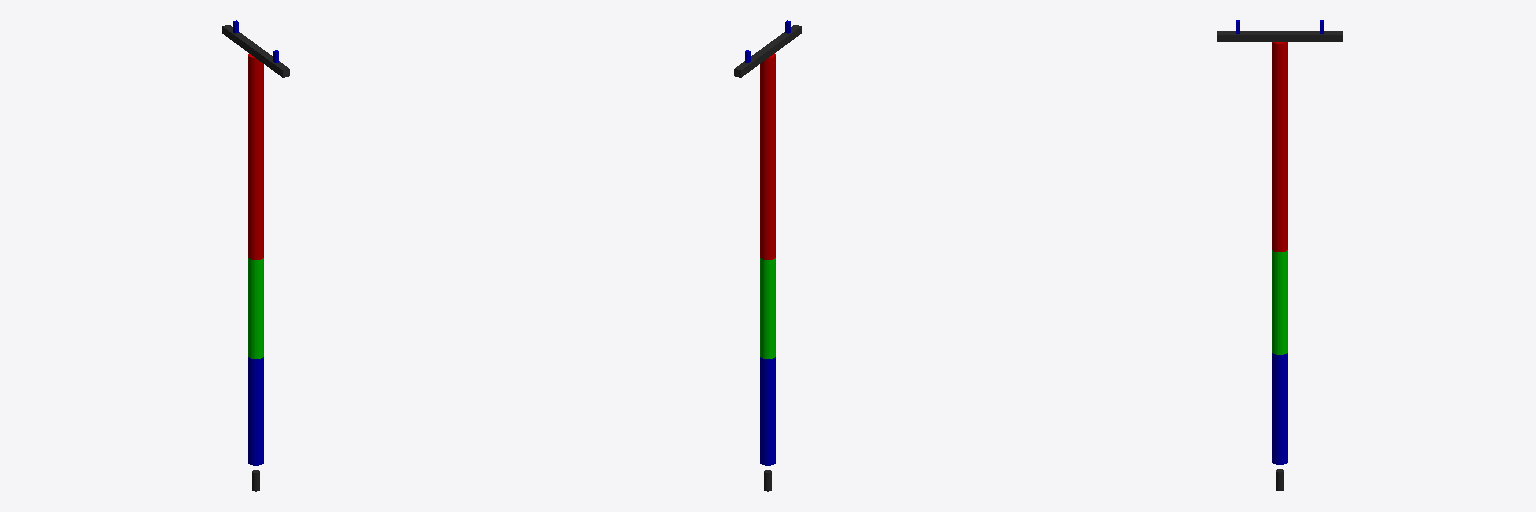
URDF robot description (rrr_robot):
<?xml version="1.0" ?>
<!-- =================================================================================== -->
<!-- |    This document was autogenerated by xacro from rrr_robot.urdf.xacro           | -->
<!-- |    EDITING THIS FILE BY HAND IS NOT RECOMMENDED                                 | -->
<!-- =================================================================================== -->
<robot name="rrr_robot">
  <!--  MATERIALS -->
  <material name="blue">
    <color rgba="0 0 0.8 1"/>
  </material>
  <material name="green">
    <color rgba="0 0.8 0 1"/>
  </material>
  <material name="red">
    <color rgba="0.8 0 0 1"/>
  </material>
  <material name="grey">
    <color rgba="0.2 0.2 0.2 1"/>
  </material>
  <!-- BASE -->
  <link name="base_link">
    <inertial>
      <origin rpy="0 0 0" xyz="0 0 0"/>
      <mass value="5.0"/>
      <inertia ixx="0.05" ixy="0" ixz="0" iyy="0.05" iyz="0" izz="0.05"/>
    </inertial>
    <visual>
      <geometry>
        <cylinder length="0.05" radius="0.01"/>
      </geometry>
      <material name="grey"/>
    </visual>
    <collision>
      <geometry>
        <cylinder length="0.05" radius="0.01"/>
      </geometry>
      <self_collide>true</self_collide>
    </collision>
  </link>
  <joint name="joint0" type="revolute">
    <parent link="base_link"/>
    <child link="link0"/>
    <origin rpy="0 0 0" xyz="0 0 0.05"/>
    <axis xyz="0 0 1"/>
    <limit effort="10.0" lower="-3.14" upper="3.14" velocity="1.0"/>
  </joint>
  <!--  LINK 0 -->
  <link name="link0">
    <inertial>
      <origin rpy="0 0 0" xyz="0 0 0"/>
      <mass value="3.0"/>
      <inertia ixx="0.03" ixy="0" ixz="0" iyy="0.03" iyz="0" izz="0.03"/>
    </inertial>
    <visual>
      <origin rpy="0 0 0" xyz="0 0 0.01"/>
      <geometry>
        <cylinder length="0.02" radius="0.02"/>
      </geometry>
      <material name="blue"/>
    </visual>
    <collision>
      <origin rpy="0 0 0" xyz="0 0 0.01"/>
      <geometry>
        <cylinder length="0.02" radius="0.02"/>
      </geometry>
      <self_collide>true</self_collide>
    </collision>
  </link>
  <joint name="joint1" type="revolute">
    <parent link="link0"/>
    <child link="link1"/>
    <origin rpy="0 0 0" xyz="0 0 0.02"/>
    <axis xyz="0 1 0"/>
    <limit effort="10.0" lower="-1.57" upper="1.57" velocity="1.0"/>
  </joint>
  <!-- LINK 1 -->
  <link name="link1">
    <inertial>
      <origin rpy="0 0 0" xyz="0 0 0"/>
      <mass value="4.0"/>
      <inertia ixx="0.04" ixy="0" ixz="0" iyy="0.04" iyz="0" izz="0.04"/>
    </inertial>
    <visual>
      <origin rpy="0 0 0" xyz="0 0 0.135"/>
      <geometry>
        <cylinder length="0.27" radius="0.02"/>
      </geometry>
      <material name="blue"/>
    </visual>
    <collision>
      <origin rpy="0 0 0" xyz="0 0 0.135"/>
      <geometry>
        <cylinder length="0.27" radius="0.02"/>
      </geometry>
      <self_collide>true</self_collide>
    </collision>
  </link>
  <joint name="joint2" type="revolute">
    <parent link="link1"/>
    <child link="link2"/>
    <origin rpy="0 0 0" xyz="0 0 0.27"/>
    <axis xyz="0 1 0"/>
    <limit effort="10.0" lower="-2.5" upper="2.5" velocity="1.0"/>
  </joint>
  <!--  LINK 2 -->
  <link name="link2">
    <inertial>
      <origin rpy="0 0 0" xyz="0 0 0"/>
      <mass value="3.5"/>
      <inertia ixx="0.035" ixy="0" ixz="0" iyy="0.035" iyz="0" izz="0.035"/>
    </inertial>
    <visual>
      <origin rpy="0 0 0" xyz="0 0 0.135"/>
      <geometry>
        <cylinder length="0.27" radius="0.02"/>
      </geometry>
      <material name="green"/>
    </visual>
    <collision>
      <origin rpy="0 0 0" xyz="0 0 0.135"/>
      <geometry>
        <cylinder length="0.27" radius="0.02"/>
      </geometry>
      <self_collide>true</self_collide>
    </collision>
  </link>
  <joint name="joint3" type="revolute">
    <parent link="link2"/>
    <child link="link3"/>
    <origin rpy="0 0 0" xyz="0 0 0.27"/>
    <axis xyz="0 1 0"/>
    <limit effort="10.0" lower="-2.5" upper="2.5" velocity="1.0"/>
  </joint>
  <!--  LINK 3 -->
  <link name="link3">
    <inertial>
      <origin rpy="0 0 0" xyz="0 0 0"/>
      <mass value="2.5"/>
      <inertia ixx="0.025" ixy="0" ixz="0" iyy="0.025" iyz="0" izz="0.025"/>
    </inertial>
    <visual>
      <origin rpy="0 0 0" xyz="0 0 0.275"/>
      <geometry>
        <cylinder length="0.55" radius="0.02"/>
      </geometry>
      <material name="red"/>
    </visual>
    <collision>
      <origin rpy="0 0 0" xyz="0 0 0.275"/>
      <geometry>
        <cylinder length="0.55" radius="0.02"/>
      </geometry>
      <self_collide>true</self_collide>
    </collision>
  </link>
  <!-- GRIPPER BASE-->
  <joint name="joint4" type="revolute">
    <parent link="link3"/>
    <child link="gripper_base"/>
    <origin rpy="0 0 0" xyz="0 0 0.55"/>
    <axis xyz="0 0 1"/>
    <limit effort="10.0" lower="-3.14" upper="3.14" velocity="1.0"/>
  </joint>
  <link name="gripper_base">
    <inertial>
      <origin rpy="0 0 0" xyz="0 0 0"/>
      <mass value="1.5"/>
      <inertia ixx="0.015" ixy="0" ixz="0" iyy="0.015" iyz="0" izz="0.015"/>
    </inertial>
    <visual>
      <origin rpy="0 0 0" xyz="0 0 0.01"/>
      <geometry>
        <box size="0.02 0.3 0.02"/>
      </geometry>
      <material name="grey"/>
    </visual>
    <collision>
      <origin rpy="0 0 0" xyz="0 0 0.01"/>
      <geometry>
        <box size="0.02 0.3 0.02"/>
      </geometry>
      <self_collide>true</self_collide>
    </collision>
  </link>
  <!--  LEFT FINGER  -->
  <joint name="finger_left_joint" type="prismatic">
    <parent link="gripper_base"/>
    <child link="gripper_finger_left"/>
    <origin rpy="0 0 0" xyz="0 0.10 0.03"/>
    <axis xyz="0 1 0"/>
    <limit effort="10.0" lower="-0.09" upper="0.05" velocity="0.5"/>
  </joint>
  <link name="gripper_finger_left">
    <inertial>
      <origin rpy="0 0 0" xyz="0 0 0"/>
      <mass value="0.3"/>
      <inertia ixx="0.003" ixy="0" ixz="0" iyy="0.003" iyz="0" izz="0.003"/>
    </inertial>
    <visual>
      <geometry>
        <box size="0.01 0.01 0.04"/>
      </geometry>
      <material name="blue"/>
    </visual>
    <collision>
      <geometry>
        <box size="0.01 0.01 0.04"/>
      </geometry>
      <self_collide>true</self_collide>
    </collision>
  </link>
  <!--  RIGHT FINGER -->
  <joint name="finger_right_joint" type="prismatic">
    <parent link="gripper_base"/>
    <child link="gripper_finger_right"/>
    <origin rpy="0 0 0" xyz="0 -0.10 0.03"/>
    <axis xyz="0 -1 0"/>
    <limit effort="10.0" lower="-0.09" upper="0.05" velocity="0.5"/>
    <mimic joint="finger_left_joint" multiplier="1.0" offset="0.0"/>
  </joint>
  <link name="gripper_finger_right">
    <inertial>
      <origin rpy="0 0 0" xyz="0 0 0"/>
      <mass value="0.3"/>
      <inertia ixx="0.003" ixy="0" ixz="0" iyy="0.003" iyz="0" izz="0.003"/>
    </inertial>
    <visual>
      <geometry>
        <box size="0.01 0.01 0.04"/>
      </geometry>
      <material name="blue"/>
    </visual>
    <collision>
      <geometry>
        <box size="0.01 0.01 0.04"/>
      </geometry>
      <self_collide>true</self_collide>
    </collision>
  </link>
</robot>

--- Render facts (derived) ---
The picture shows the robot from 3 angles, left to right: view 1: azimuth 30°, elevation 25°; view 2: azimuth 150°, elevation 25°; view 3: azimuth 270°, elevation 25°; orthographic projection.
Model rrr_robot with 8 links and 7 joints (5 revolute, 2 prismatic), rooted at base_link, posed every joint at zero.
Links seen in each view (by area): view 1: link3, link1, link2, gripper_base; view 2: link3, link1, link2, gripper_base; view 3: link3, link2, link1, gripper_base.
Boxes of the visible links, <box> form: link3: <box>248,53,263,259</box>; link1: <box>248,357,263,457</box>; link2: <box>248,258,263,358</box>; gripper_base: <box>222,25,289,77</box>; link3: <box>760,53,775,259</box>; link1: <box>760,357,775,457</box>; link2: <box>760,258,775,358</box>; gripper_base: <box>734,25,801,77</box>; link3: <box>1272,42,1287,251</box>; link2: <box>1272,250,1287,354</box>; link1: <box>1272,353,1287,456</box>; gripper_base: <box>1217,31,1342,41</box>.
Size in the robot's own frame: 0.04 by 0.3 by 1.24 metres.
Geometry: primitives only (box / cylinder / sphere), no mesh files.
